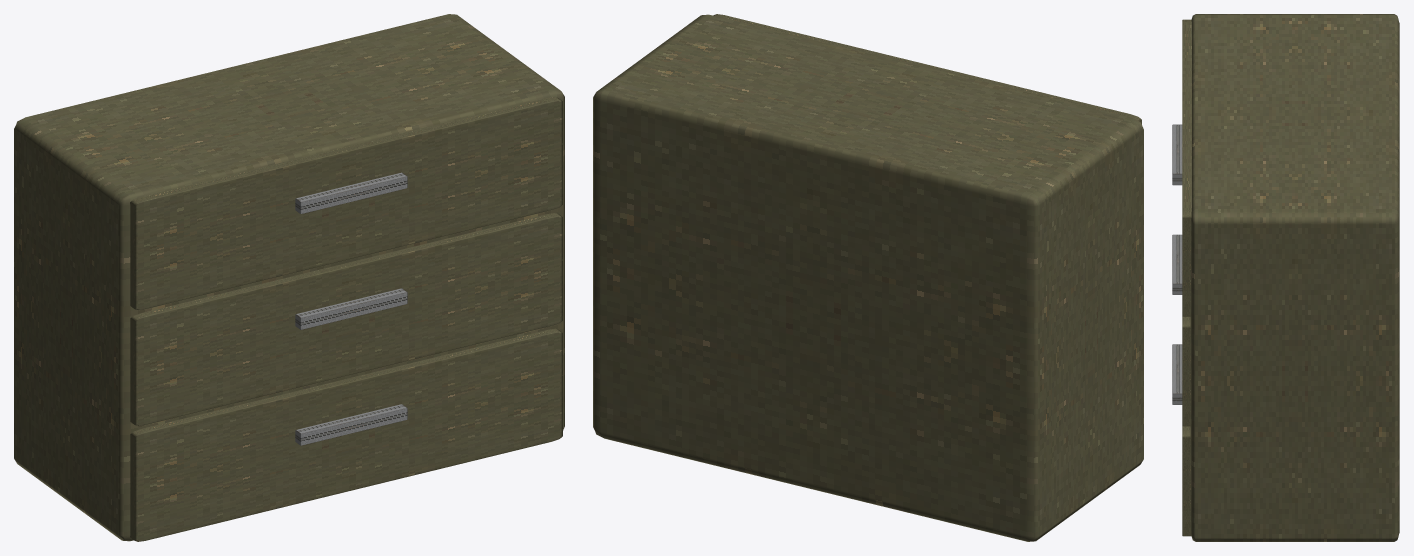
File: parts-drawers.glb
3 renders of one model, left to right at view 1: azimuth 30°, elevation 25°; view 2: azimuth 150°, elevation 25°; view 3: azimuth 270°, elevation 25°, orthographic. The views are drawn at different scales.
Parts seen in each view (by area): view 1: front (×3), case, pull (×3); view 2: case, front; view 3: case, front (×3), pull (×3).
Boxes of the visible parts, box(x1,y1,x2,y2) form: front (×3): box(130, 96, 562, 541); case: box(14, 14, 564, 541); pull (×3): box(295, 172, 407, 445); case: box(593, 14, 1143, 541); front: box(713, 14, 1141, 124); case: box(1190, 14, 1399, 541); front (×3): box(1182, 19, 1191, 536); pull (×3): box(1172, 124, 1182, 404).
Bounding box in the file's own units: 0.43 × 0.32 × 0.2.
Materials: 2 (2 with a texture image).
